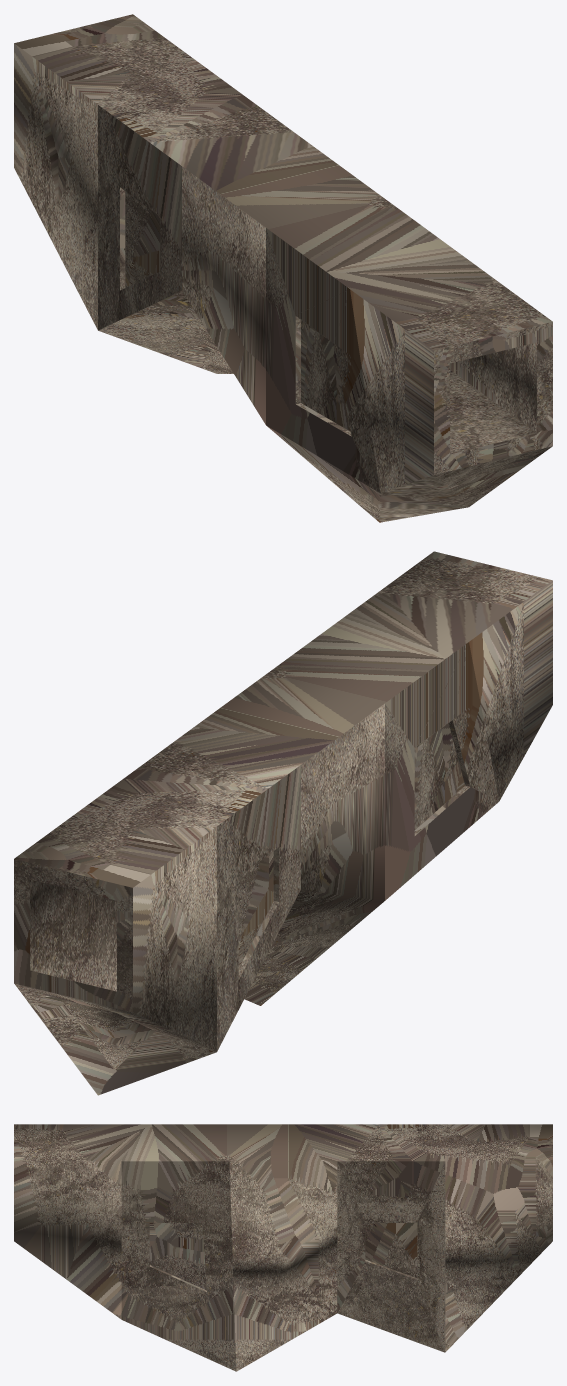
The model's file is EdificioPuente.obj.
3 renders of one model, top to bottom at view 1: azimuth 30°, elevation 25°; view 2: azimuth 150°, elevation 25°; view 3: azimuth 270°, elevation 25°, orthographic. The views are drawn at different scales.
Parts seen in each view (by area): view 1: Tube006; view 2: Tube006; view 3: Tube006.
Boxes of the visible parts, x1,y1,x2,y2 form: Tube006: (14, 14, 552, 522); Tube006: (14, 551, 552, 1095); Tube006: (14, 1124, 552, 1371).
Bounding box in the file's own units: 14.4 × 37.95 × 88.11.
